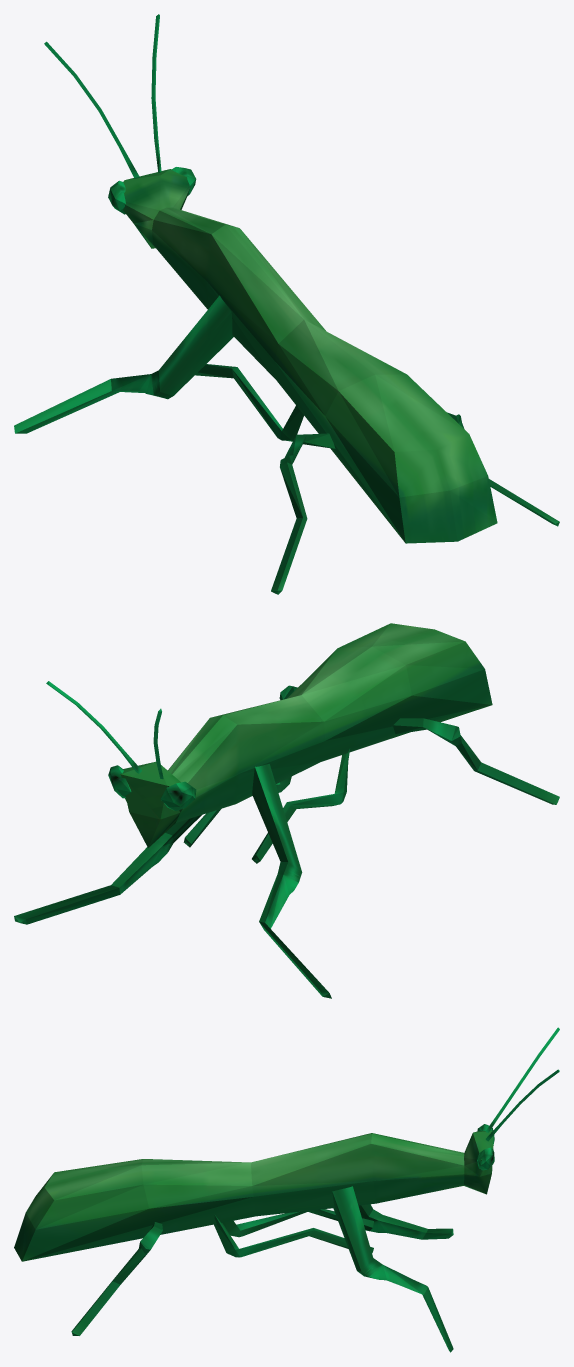
The model's file is prayingmantis.glb.
The picture shows the model from 3 angles, top to bottom: view 1: azimuth 30°, elevation 25°; view 2: azimuth 150°, elevation 25°; view 3: azimuth 270°, elevation 25°; orthographic projection. The views are drawn at different scales.
Parts seen in each view (by area): view 1: ZtoY, legs4, antenna4; view 2: ZtoY, legs4, eyes64, antenna4; view 3: ZtoY, legs4, antenna4, eyes64.
Boxes of the visible parts, <box> form: ZtoY: <box>123,169,497,543</box>; legs4: <box>14,295,559,594</box>; antenna4: <box>44,14,161,178</box>; ZtoY: <box>120,623,492,847</box>; legs4: <box>14,685,559,998</box>; eyes64: <box>108,765,196,811</box>; antenna4: <box>46,681,163,779</box>; ZtoY: <box>14,1130,493,1261</box>; legs4: <box>71,1186,453,1352</box>; antenna4: <box>485,1027,559,1141</box>; eyes64: <box>477,1124,494,1170</box>.
Bounding box in the file's own units: 3.94 × 3.78 × 7.62.
Materials: 1 (1 with a texture image).
